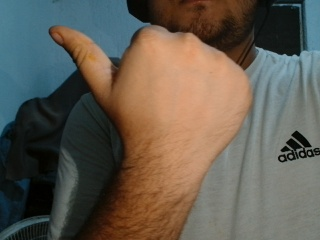Derecha: (36, 14, 265, 171)
